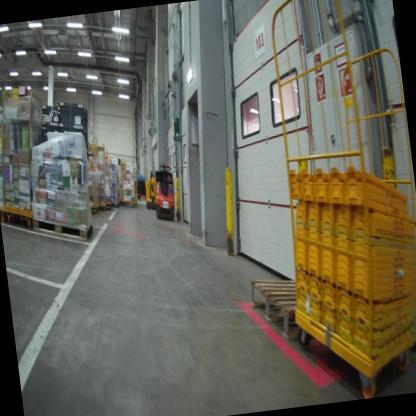pallet: (29, 202, 96, 248)
pallet_truck: (149, 160, 182, 220), (141, 168, 164, 213)
